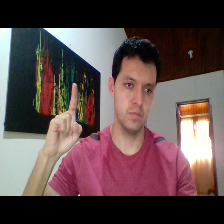2T: (39, 77, 85, 162)
